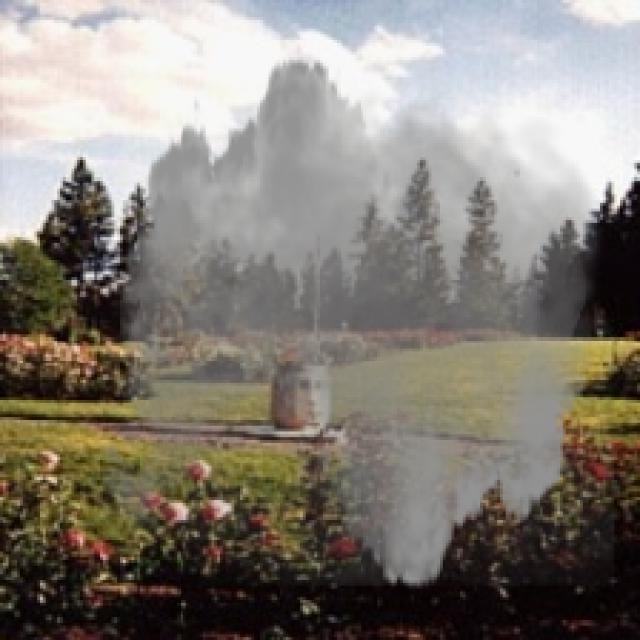smoke: (83, 40, 614, 606)
